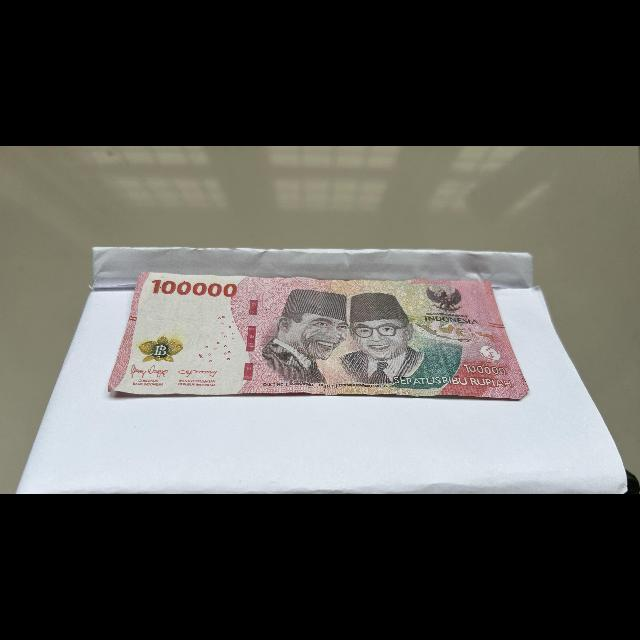Palsu-100k: (103, 269, 538, 407)
Tinta-Palsu-100k: (138, 335, 185, 364)
